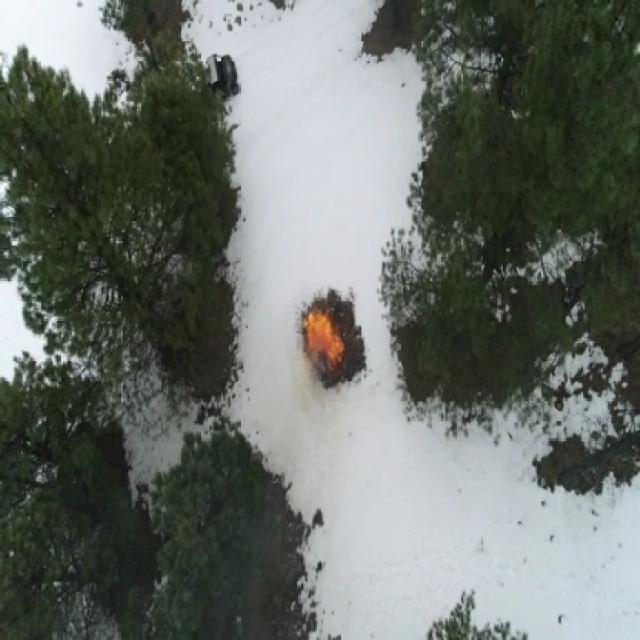Fire: (300, 306, 346, 382)
